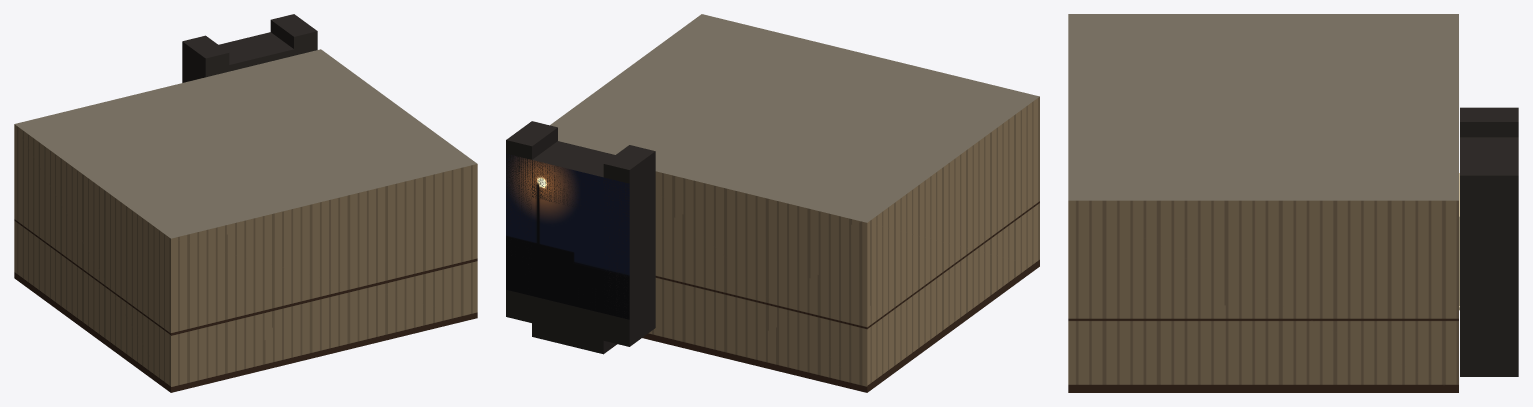
File: room.glb
3 renders of one model, left to right at view 1: azimuth 30°, elevation 25°; view 2: azimuth 150°, elevation 25°; view 3: azimuth 270°, elevation 25°, orthographic. The views are drawn at different scales.
Parts seen in each view (by area): view 1: set; view 2: set; view 3: set.
Boxes of the visible parts, box(x1,y1,x2,y2) form: set: box(14, 14, 477, 392); set: box(506, 14, 1039, 392); set: box(1068, 14, 1518, 392).
Bounding box in the file's own units: 5.2 × 2.8 × 5.3.
Materials: 2 (1 with a texture image).
